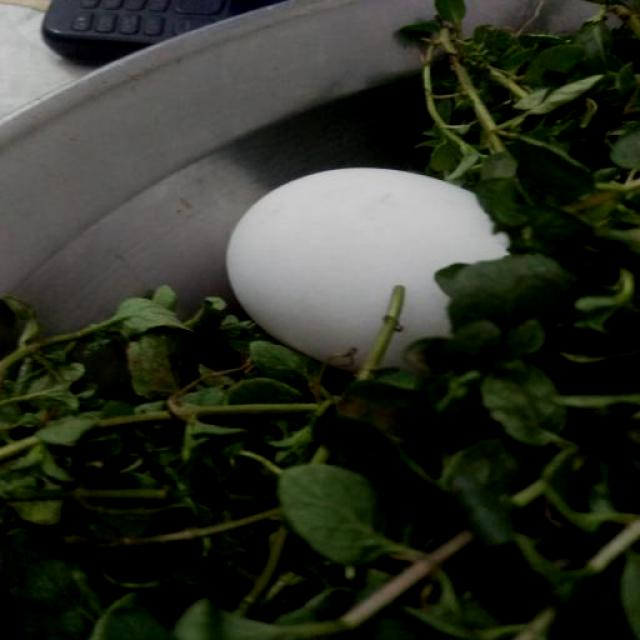telur: (226, 168, 512, 376)
